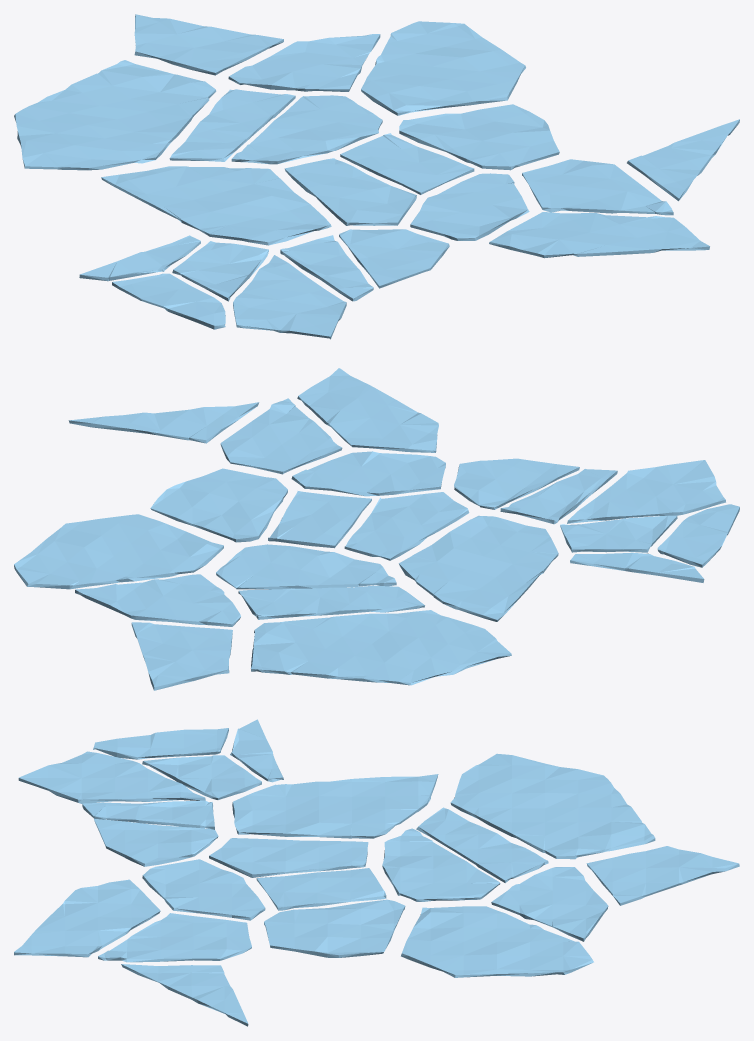
File: Ice_Floes.fbx
The picture shows the model from 3 angles, top to bottom: view 1: azimuth 30°, elevation 25°; view 2: azimuth 150°, elevation 25°; view 3: azimuth 270°, elevation 25°; orthographic projection. The views are drawn at different scales.
Parts seen in each view (by area): view 1: Ice_Floe_02, Ice_Floe_10, Ice_Floe_14, Ice_Floe_03, Ice_Floe_16, Ice_Floe_17, Ice_Floe_04, Ice_Floe_06, Ice_Floe_13, Ice_Floe_11, Ice_Floe_18, Ice_Floe_08 (+8 smaller); view 2: Ice_Floe_02, Ice_Floe_14, Ice_Floe_10, Ice_Floe_03, Ice_Floe_16, Ice_Floe_17, Ice_Floe_04, Ice_Floe_13, Ice_Floe_06, Ice_Floe_18, Ice_Floe_11, Ice_Floe_08 (+8 smaller); view 3: Ice_Floe_02, Ice_Floe_10, Ice_Floe_14, Ice_Floe_03, Ice_Floe_16, Ice_Floe_04, Ice_Floe_17, Ice_Floe_06, Ice_Floe_13, Ice_Floe_18, Ice_Floe_08, Ice_Floe_11 (+8 smaller).
Boxes of the visible parts, <box> form: Ice_Floe_02: <box>14,60,216,170</box>; Ice_Floe_10: <box>101,166,331,245</box>; Ice_Floe_14: <box>361,21,525,115</box>; Ice_Floe_03: <box>489,212,709,258</box>; Ice_Floe_16: <box>399,104,559,170</box>; Ice_Floe_17: <box>231,95,382,164</box>; Ice_Floe_04: <box>233,255,346,339</box>; Ice_Floe_06: <box>522,159,673,215</box>; Ice_Floe_13: <box>228,34,380,91</box>; Ice_Floe_11: <box>134,14,283,75</box>; Ice_Floe_18: <box>410,173,529,240</box>; Ice_Floe_08: <box>284,158,416,225</box>; Ice_Floe_02: <box>251,610,511,685</box>; Ice_Floe_14: <box>14,514,223,589</box>; Ice_Floe_10: <box>399,515,558,621</box>; Ice_Floe_03: <box>297,368,438,452</box>; Ice_Floe_16: <box>150,468,287,542</box>; Ice_Floe_17: <box>216,544,396,589</box>; Ice_Floe_04: <box>567,460,725,523</box>; Ice_Floe_13: <box>75,574,240,626</box>; Ice_Floe_06: <box>220,398,342,474</box>; Ice_Floe_18: <box>291,451,445,496</box>; Ice_Floe_11: <box>131,622,232,690</box>; Ice_Floe_08: <box>344,492,469,560</box>; Ice_Floe_02: <box>450,753,655,859</box>; Ice_Floe_10: <box>232,774,438,838</box>; Ice_Floe_14: <box>401,906,593,977</box>; Ice_Floe_03: <box>14,879,160,957</box>; Ice_Floe_16: <box>264,899,405,957</box>; Ice_Floe_04: <box>18,751,205,803</box>; Ice_Floe_17: <box>382,828,500,901</box>; Ice_Floe_06: <box>98,913,251,962</box>; Ice_Floe_13: <box>491,867,608,941</box>; Ice_Floe_18: <box>142,859,265,920</box>; Ice_Floe_08: <box>209,838,368,877</box>; Ice_Floe_11: <box>586,846,739,905</box>.
Size of the model in its own units: 8892 by 82.59 by 8981.
